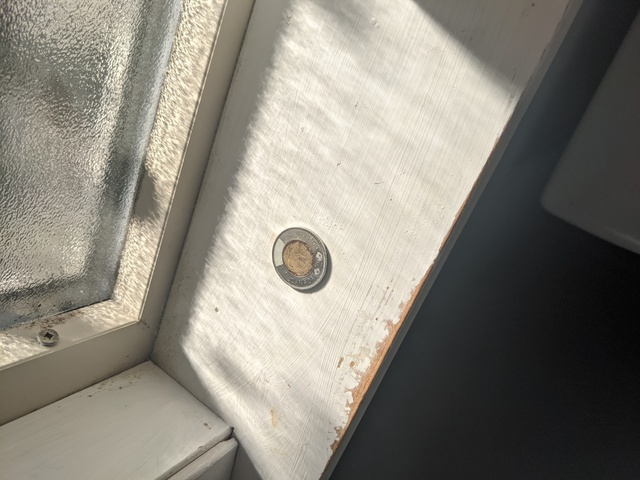twonie: (270, 225, 337, 291)
